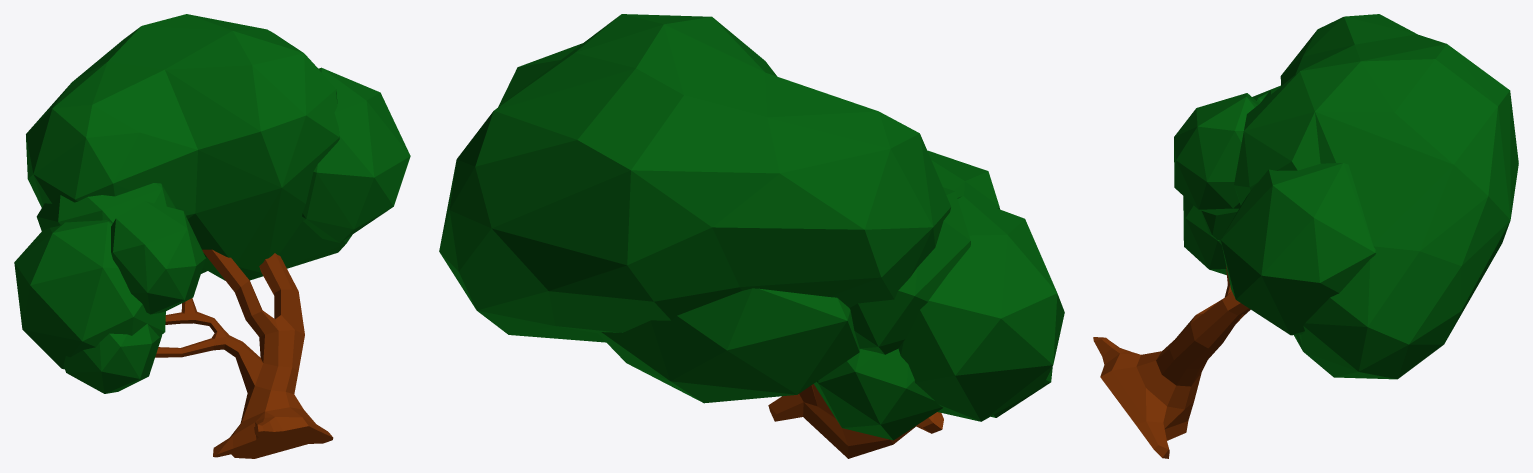
File: asianTreeWide.fbx
The picture shows the model from 3 angles, left to right: view 1: azimuth 30°, elevation 25°; view 2: azimuth 150°, elevation 25°; view 3: azimuth 270°, elevation 25°; orthographic projection. The views are drawn at different scales.
Parts seen in each view (by area): view 1: tree-bonsai; view 2: tree-bonsai; view 3: tree-bonsai.
Boxes of the visible parts, <box> form: tree-bonsai: <box>14,14,410,458</box>; tree-bonsai: <box>439,14,1064,458</box>; tree-bonsai: <box>1093,14,1518,458</box>.
Bounding box in the file's own units: 253 × 219 × 210.
